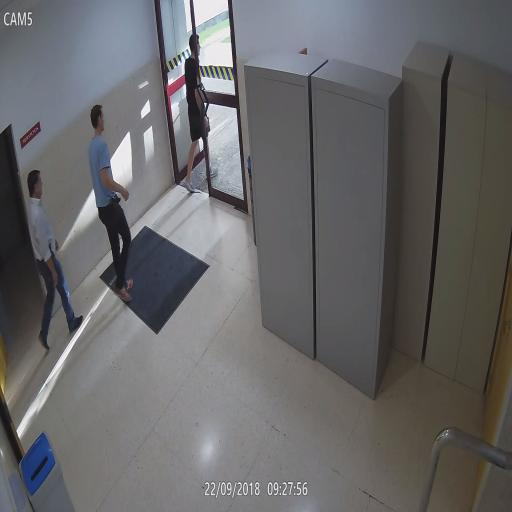Handgun: (110, 196, 120, 220), (204, 114, 212, 133), (47, 243, 54, 256)
